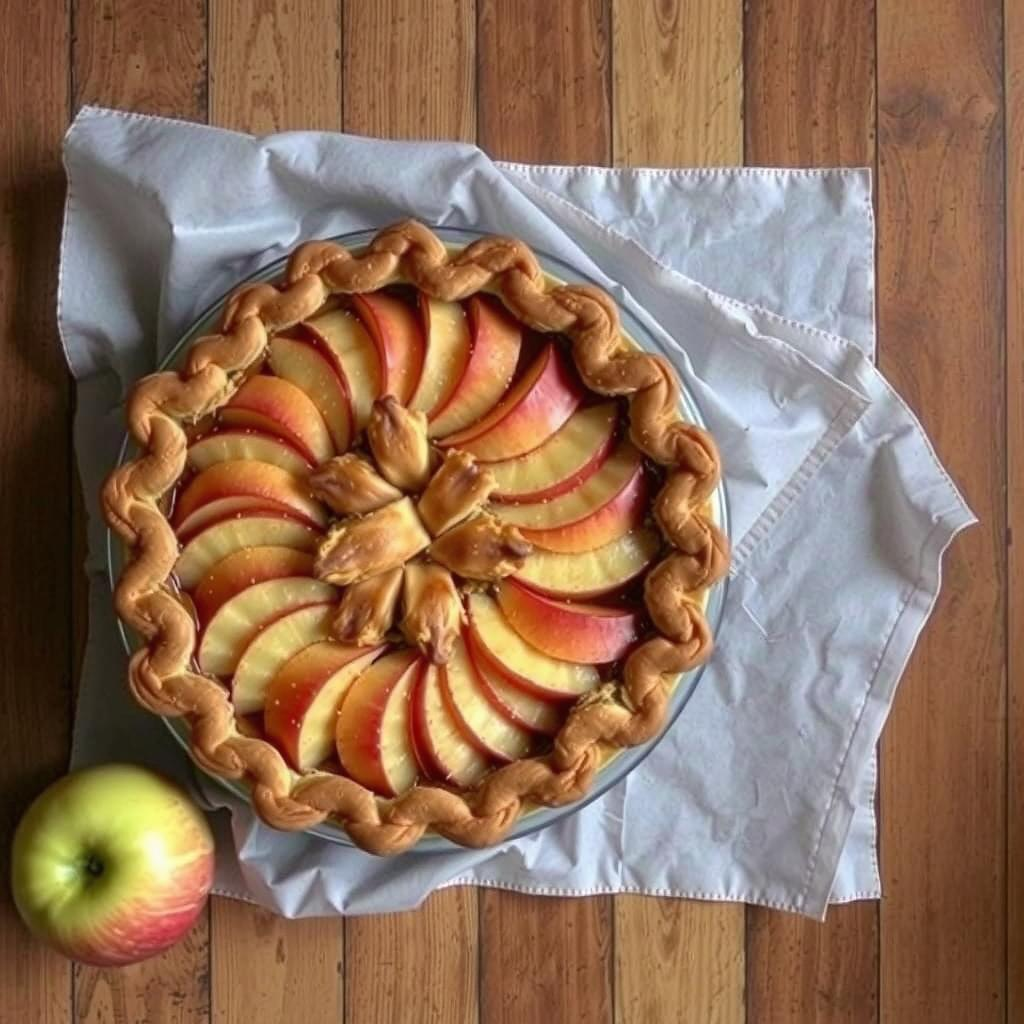pie: (96, 207, 740, 861)
